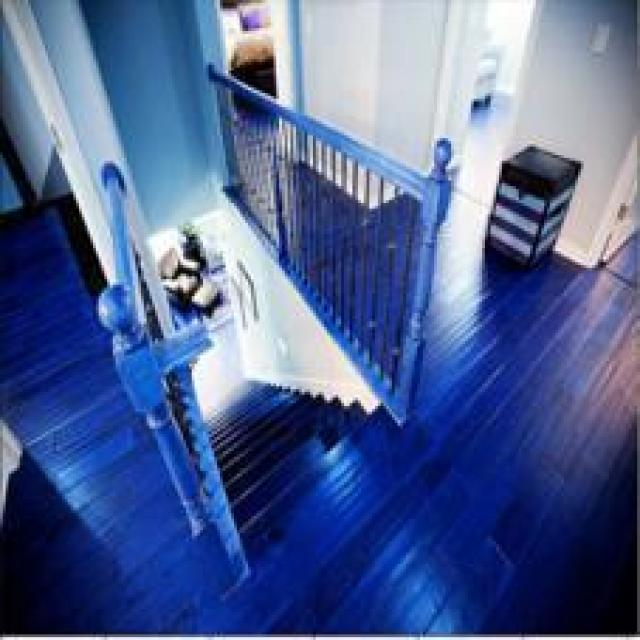downstair: (221, 368, 393, 540)
